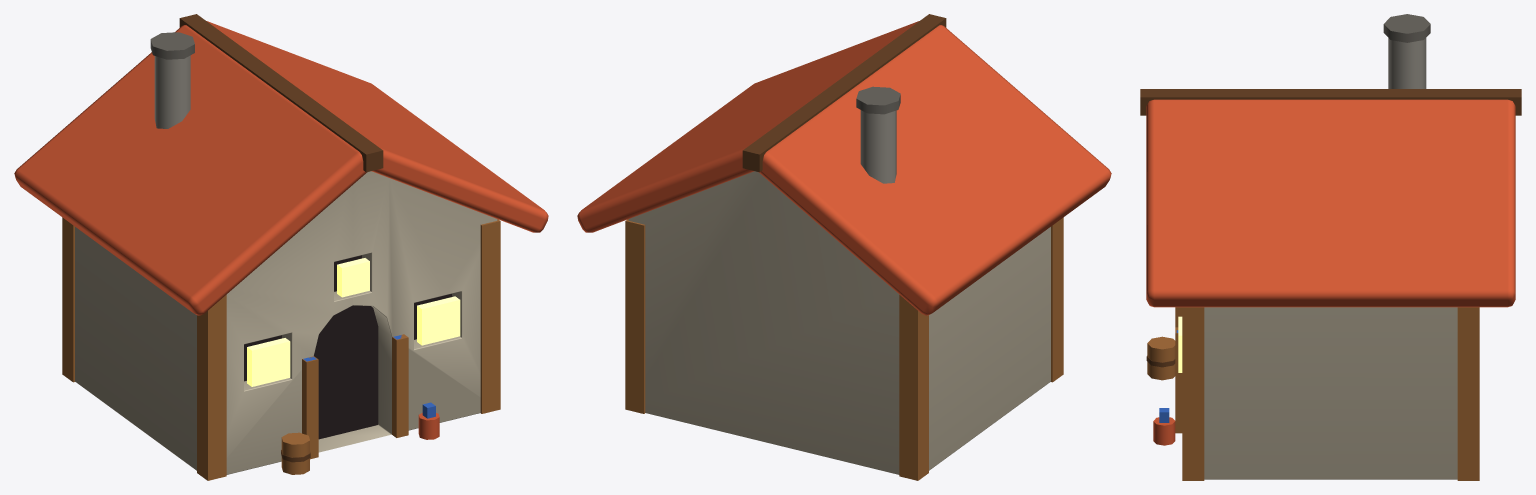
File: Buildings__cottage.glb
3 views of the same model, side by side, from view 1: azimuth 30°, elevation 25°; view 2: azimuth 150°, elevation 25°; view 3: azimuth 270°, elevation 25° (orthographic). The views are drawn at different scales.
Parts seen in each view (by area): view 1: cottage_mesh; view 2: cottage_mesh; view 3: cottage_mesh.
Part boxes in pixels (bbox=[...]): cottage_mesh: bbox=[14, 14, 548, 480]; cottage_mesh: bbox=[577, 14, 1111, 480]; cottage_mesh: bbox=[1140, 14, 1521, 480].
Size of the model in its own units: 2.11 by 1.91 by 1.9.
